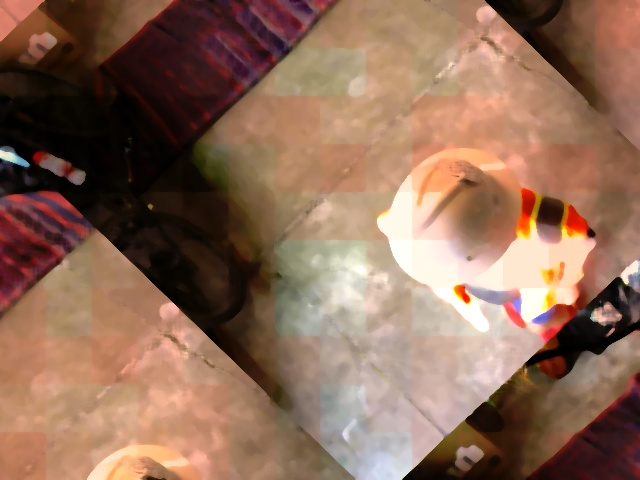eight: (435, 145, 488, 196)
